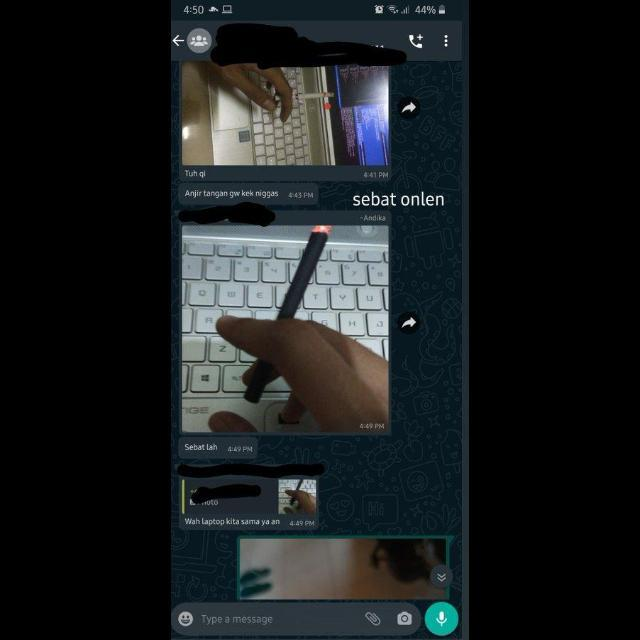rokok: (244, 225, 334, 402)
